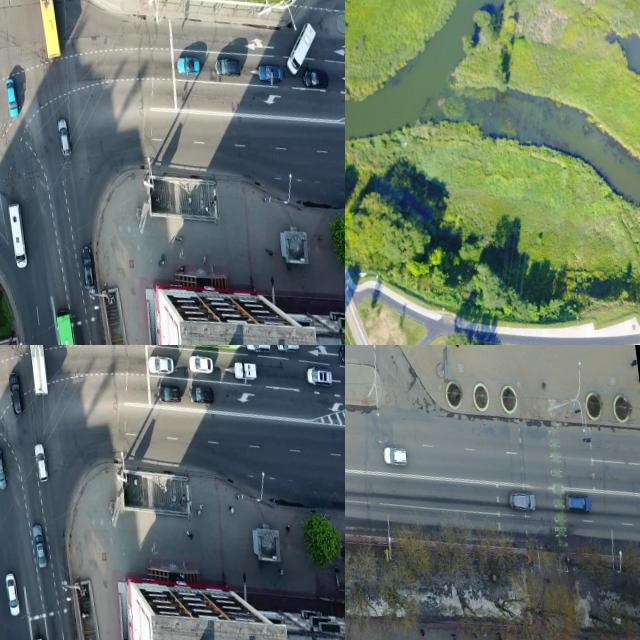UAI: (506, 484, 539, 518), (562, 488, 595, 520), (382, 443, 411, 472), (4, 571, 21, 617), (31, 523, 48, 569), (8, 371, 24, 416), (33, 442, 50, 484), (302, 68, 330, 91), (147, 353, 175, 376), (305, 365, 333, 388), (56, 117, 72, 157), (188, 383, 215, 406), (214, 55, 242, 77), (175, 54, 201, 77), (188, 353, 214, 376), (81, 244, 94, 289), (156, 382, 182, 404), (5, 77, 19, 117), (257, 63, 283, 84), (234, 359, 258, 381), (0, 444, 9, 491), (275, 345, 300, 355), (244, 345, 271, 354)
car: (24, 0, 61, 59), (15, 345, 50, 394), (53, 307, 85, 345), (174, 345, 241, 356)
harvester: (281, 22, 321, 76), (7, 201, 28, 269)
